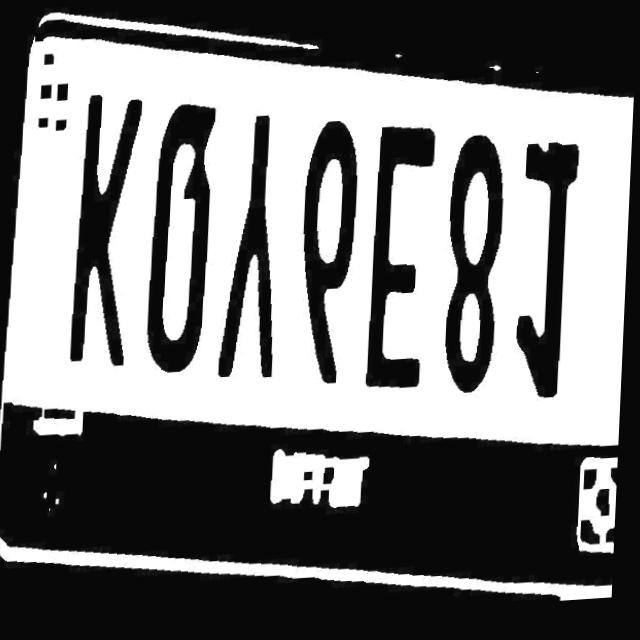1: (512, 135, 601, 415)
6: (292, 119, 369, 401)
8: (441, 131, 523, 423)
e: (364, 113, 446, 412)
k: (72, 92, 152, 379)
q: (146, 99, 225, 391)
y: (218, 116, 291, 402)
